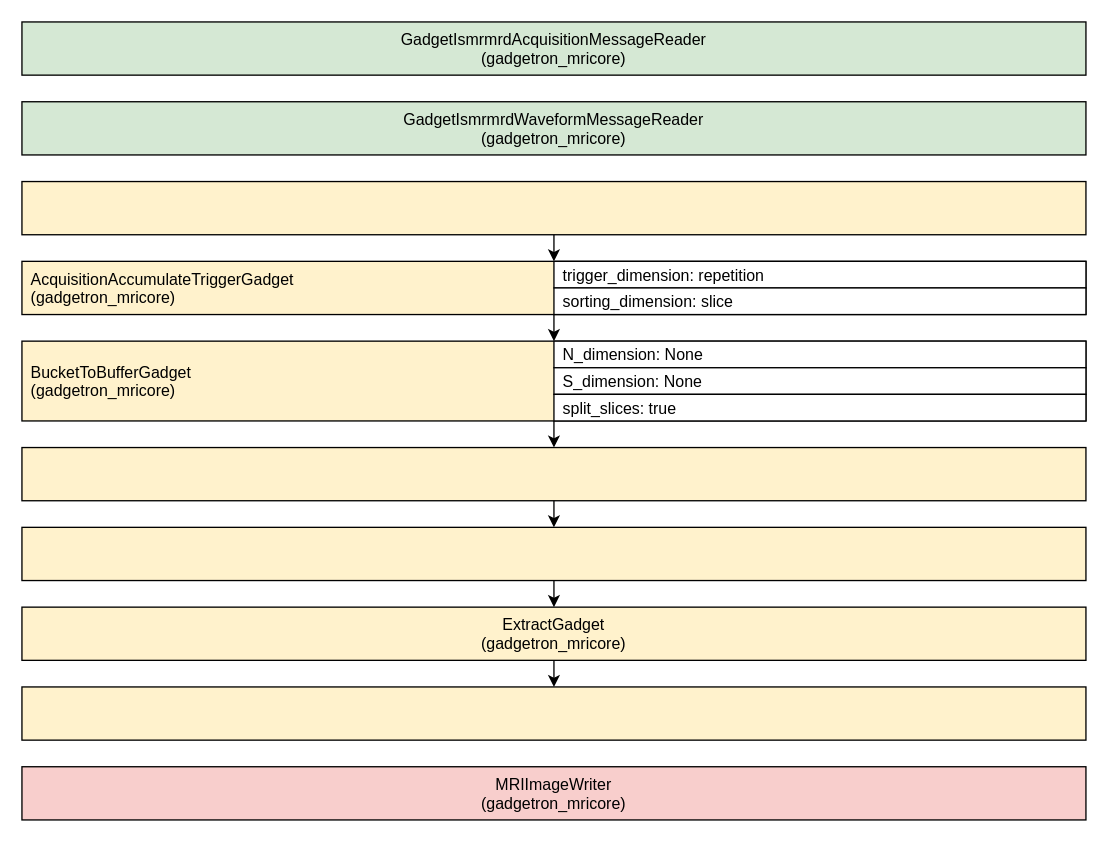
The diagram is 1108 pixels wide and 842 high, and some of its shapes have lost their labels. Each missing label, with the centre of its shape:
"ImageArraySplitGadget (gadgetron_mricore)" goes at pixel 553 553.
"ImageFinishGadget (gadgetron_mricore)" goes at pixel 553 713.
"RemoveROOversamplingGadget (gadgetron_mricore)" goes at pixel 553 207.
"SimpleReconGadget (gadgetron_mricore)" goes at pixel 553 473.
